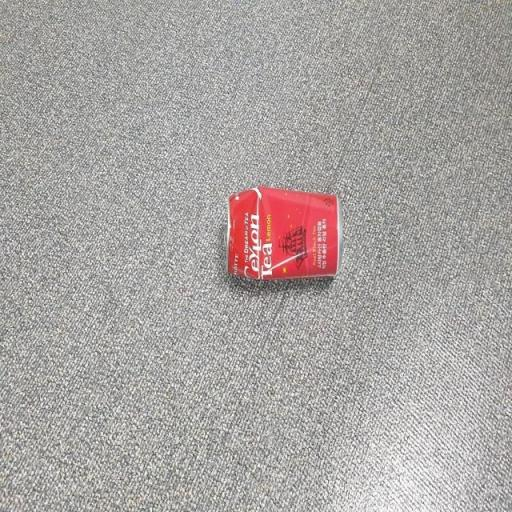metal: (212, 176, 356, 307)
